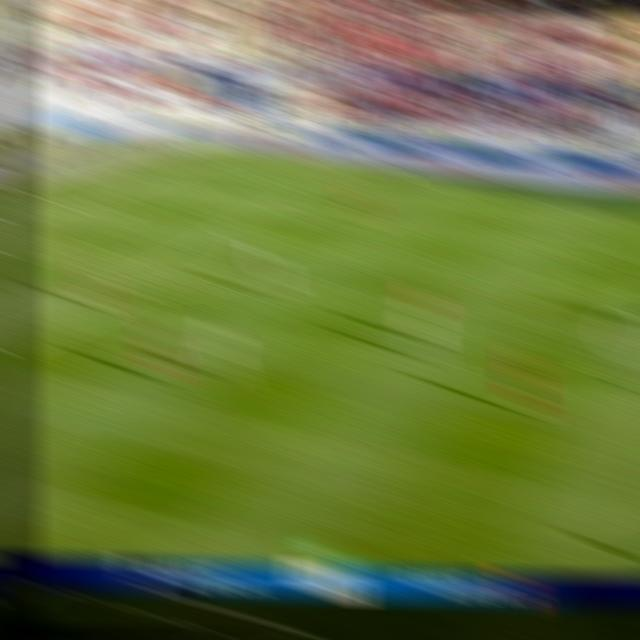bigarea_top_inner: (284, 192, 322, 216)
bigarea_top_outter: (115, 170, 140, 184)
bottom_arc_area_intersection: (109, 274, 147, 302)
corner: (188, 148, 217, 160)
smallarea_top_inner: (95, 203, 122, 219)
smallarea_top_outter: (35, 190, 69, 212)
top_arc_area_intersection: (220, 226, 253, 248)
